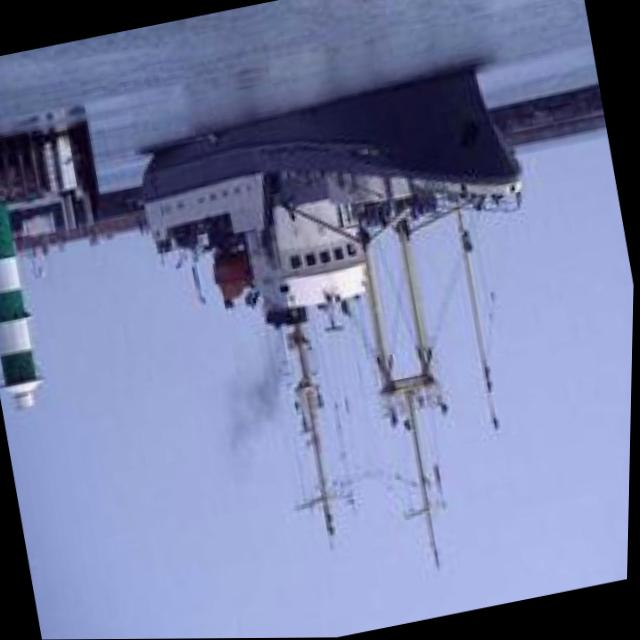ship2: (141, 67, 525, 568)
